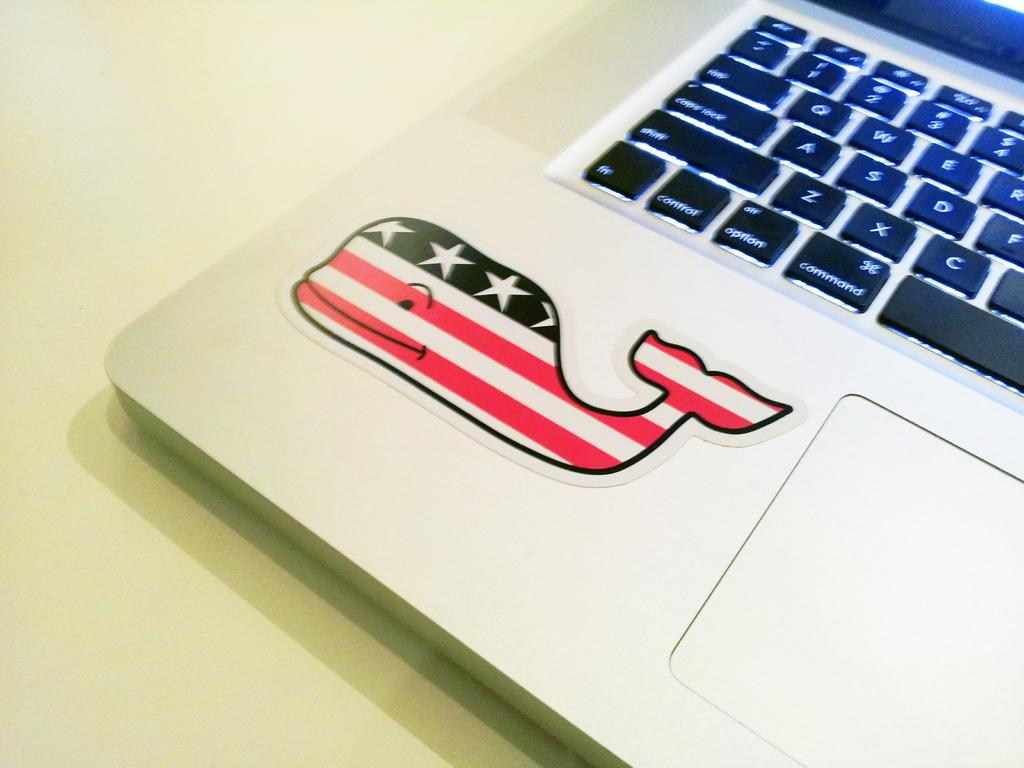Computer-keyboard: (580, 12, 1023, 399)
